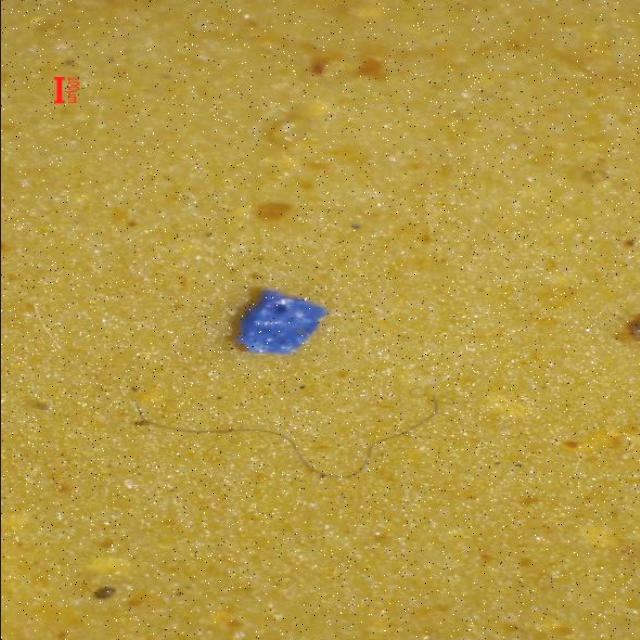Fibre: (126, 389, 447, 468)
Fragment: (238, 284, 329, 360)
